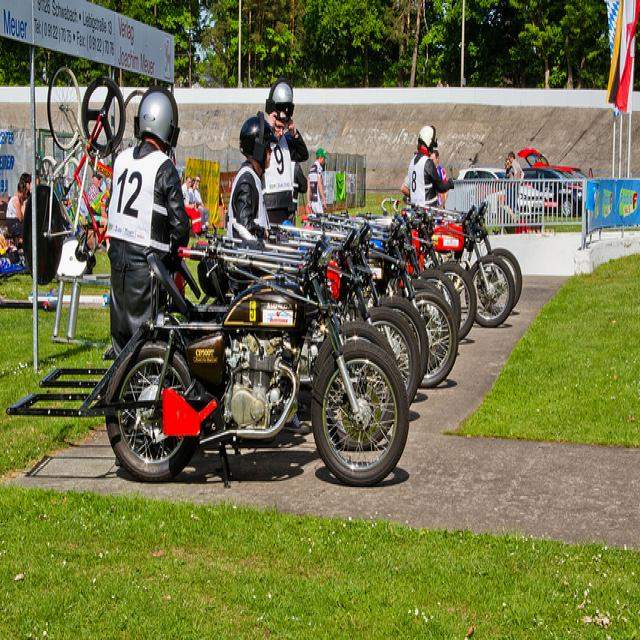motor: (102, 238, 415, 491), (321, 231, 423, 406), (370, 238, 457, 391), (351, 220, 430, 380), (370, 194, 461, 327), (404, 198, 480, 335), (438, 203, 512, 328), (329, 265, 392, 356), (476, 202, 524, 311)
